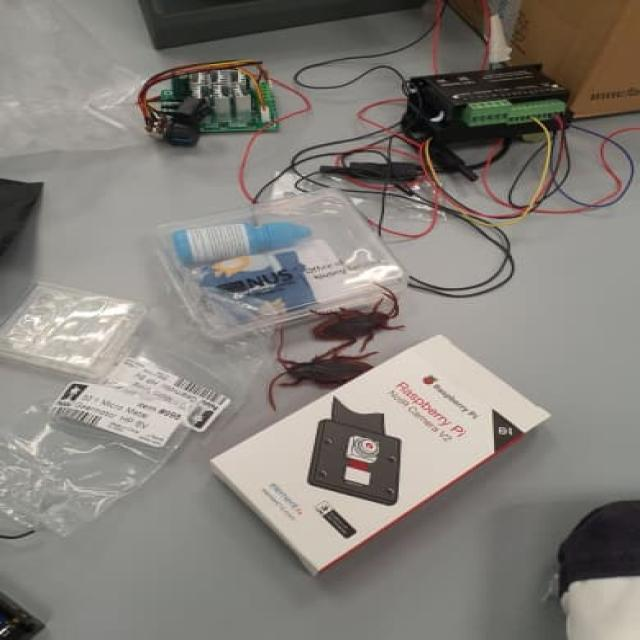Cockroach: (258, 334, 374, 408), (302, 278, 407, 352)
